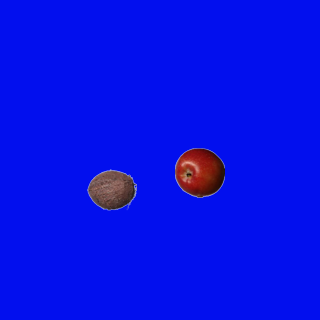Apple Braeburn: (174, 147, 224, 197)
Cocos: (86, 164, 136, 214)
